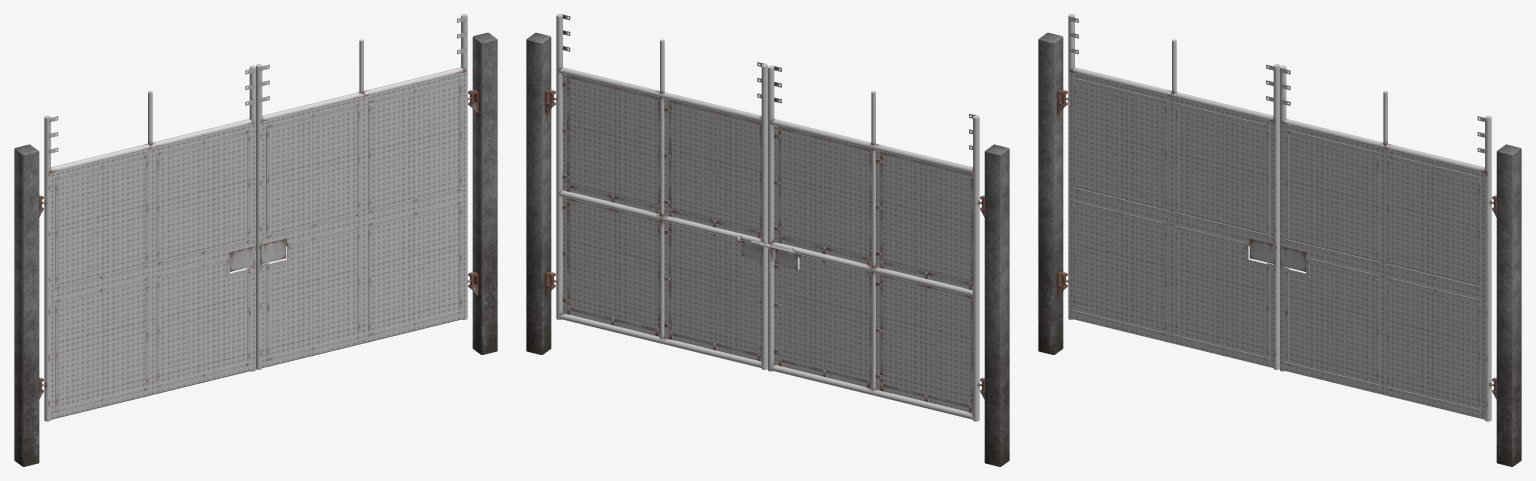
The model's file is SM_Access_Gate_01.FBX.
The picture shows the model from 3 angles, left to right: view 1: azimuth 30°, elevation 25°; view 2: azimuth 150°, elevation 25°; view 3: azimuth 330°, elevation 25°; orthographic projection.
Visible parts, largest first — view 1: SM_Access_Gate_01; view 2: SM_Access_Gate_01; view 3: SM_Access_Gate_01.
Part boxes in pixels (x1,y1,x2,y2): SM_Access_Gate_01: (14,14,497,466); SM_Access_Gate_01: (526,14,1009,466); SM_Access_Gate_01: (1038,14,1521,466).
Bounding box in the file's own units: 581 × 20 × 397.
